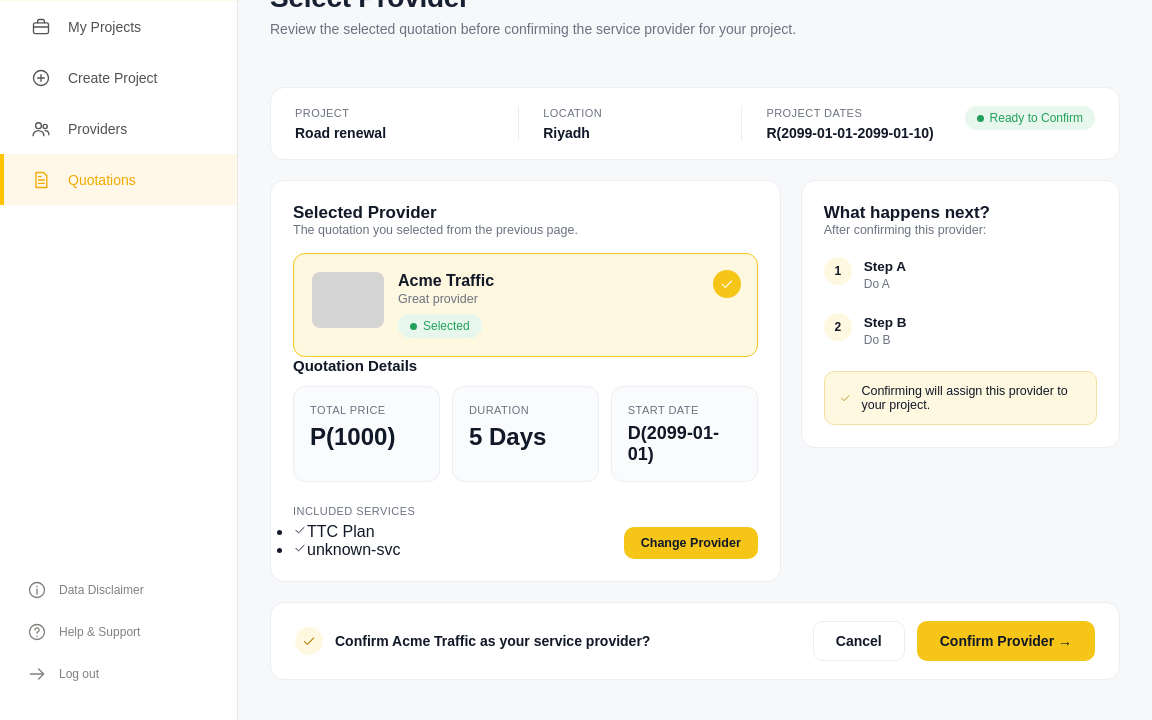
Test: SelectProviderPage › Cancel يرجع للعروض
(page scrolled)
Check: the heading "Acme Traffic" is shown, box [398, 272, 494, 290]
Click the button "Cancel".
click(859, 641)  # box [813, 621, 905, 661]
(page scrolled)
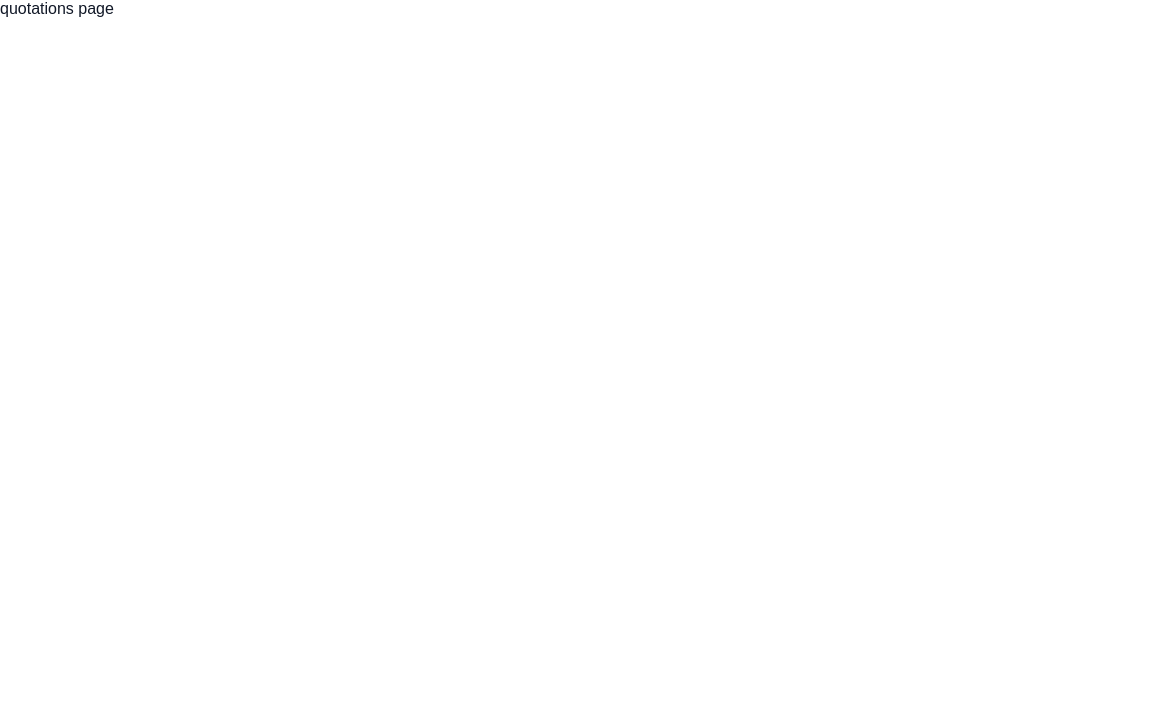
Check: the text "quotations page" is shown, box [0, 0, 114, 17]
